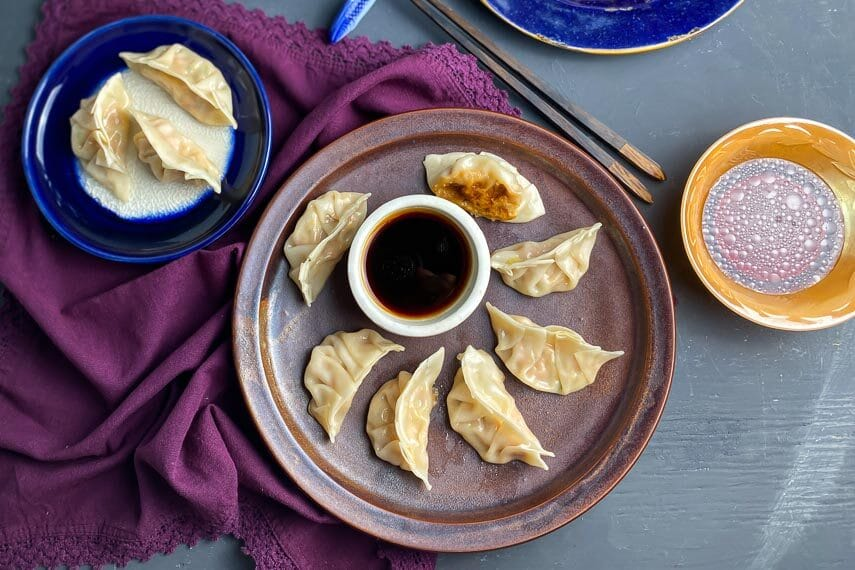momo: (446, 341, 556, 479), (489, 296, 625, 399), (270, 185, 376, 306), (368, 346, 452, 486), (302, 331, 402, 445), (119, 44, 244, 134), (121, 99, 229, 200), (423, 155, 554, 228), (493, 222, 610, 298), (71, 74, 133, 198)
